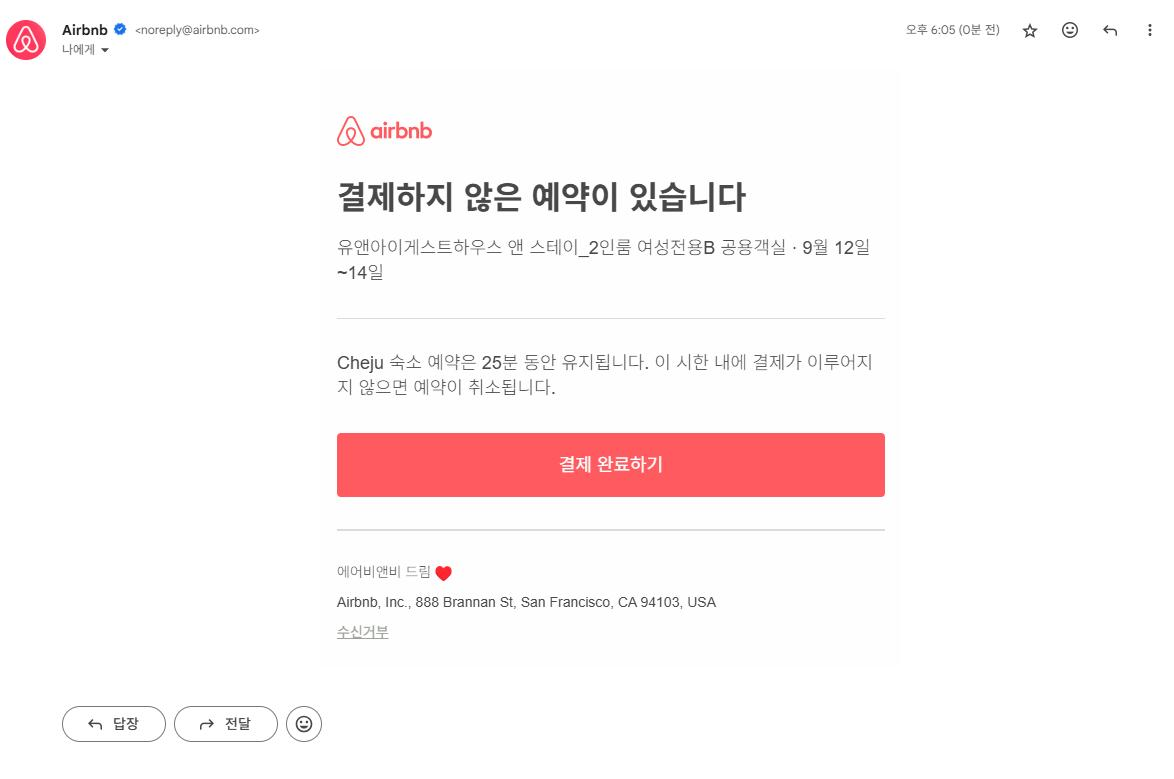button: (339, 436, 886, 495), (172, 701, 282, 745), (59, 701, 167, 745), (333, 619, 394, 651), (284, 704, 324, 744), (1054, 14, 1089, 50), (1015, 15, 1046, 47), (1097, 17, 1127, 47), (1139, 17, 1163, 43)
checkbox: (57, 37, 117, 63)
